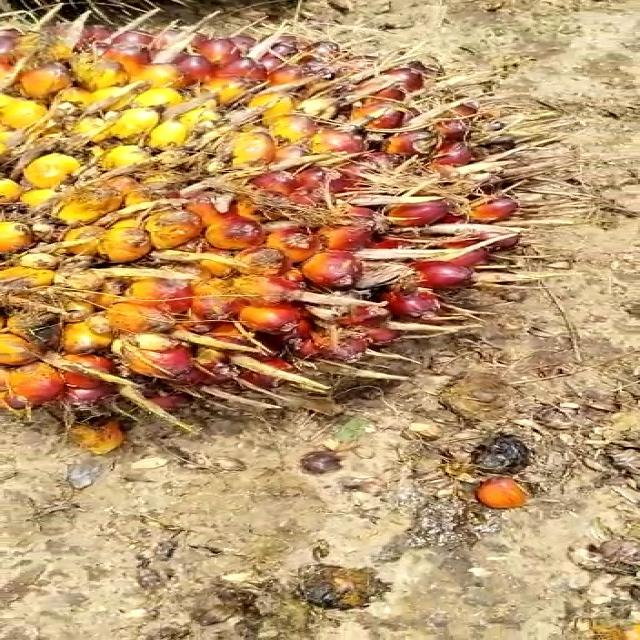palm oil: (0, 0, 518, 436)
